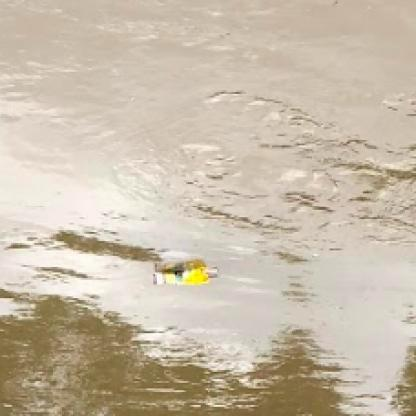Metal: (151, 258, 221, 291)
